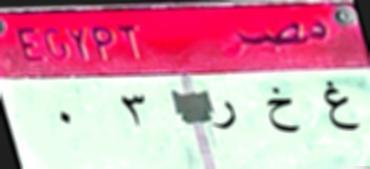0: (54, 102, 76, 134)
3: (116, 90, 150, 132)
ghayn: (317, 78, 360, 136)
khaa: (263, 84, 302, 136)
raa: (206, 94, 240, 137)
